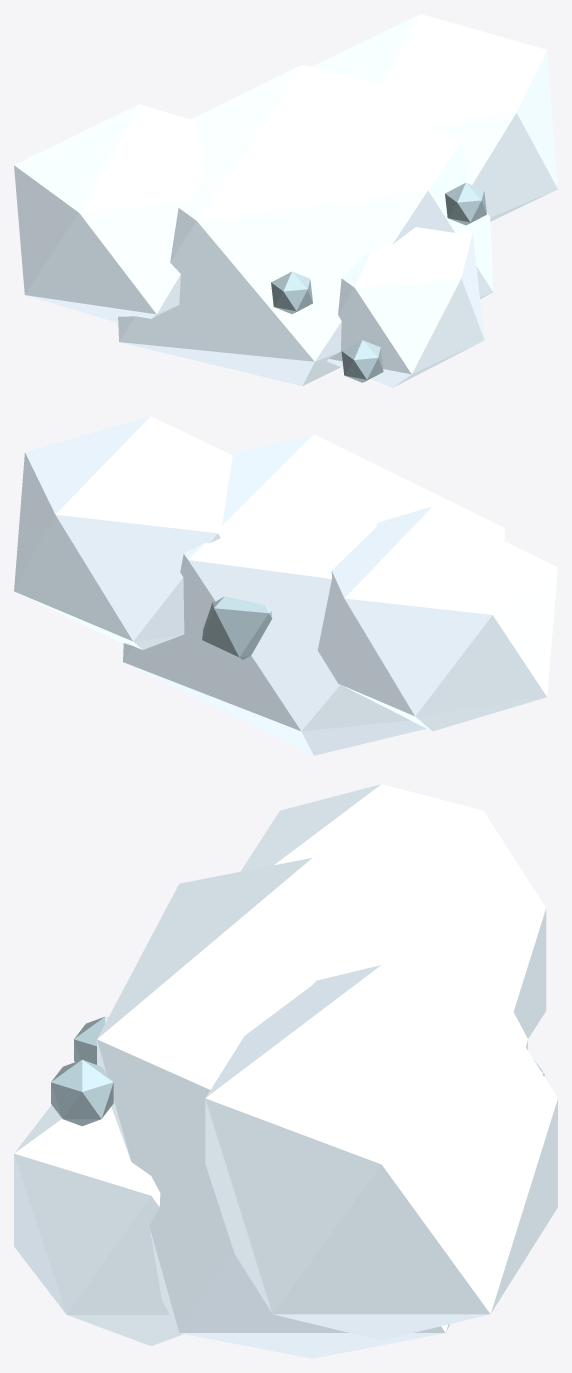
Rendered from CloudSprite.fbx.
The picture shows the model from 3 angles, top to bottom: view 1: azimuth 30°, elevation 25°; view 2: azimuth 150°, elevation 25°; view 3: azimuth 270°, elevation 25°; orthographic projection. The views are drawn at different scales.
Visible parts, largest first — view 1: CloudSprite_Body, CloudSprite_Body3, CloudSprite_Body2, CloudSprite_Body4, CloudSprite_Sparkle3, CloudSprite_Sparkle2, CloudSprite_Sparkle1; view 2: CloudSprite_Body, CloudSprite_Body3, CloudSprite_Body2, CloudSprite_Core; view 3: CloudSprite_Body2, CloudSprite_Body, CloudSprite_Body3, CloudSprite_Body4, CloudSprite_Sparkle2, CloudSprite_Sparkle1.
Boxes of the visible parts, left/top/right/bottom form: CloudSprite_Body: left=118, top=64, right=493, bottom=386; CloudSprite_Body3: left=14, top=104, right=205, bottom=322; CloudSprite_Body2: left=312, top=14, right=557, bottom=221; CloudSprite_Body4: left=327, top=227, right=484, bottom=387; CloudSprite_Sparkle3: left=341, top=340, right=383, bottom=382; CloudSprite_Sparkle2: left=445, top=183, right=486, bottom=225; CloudSprite_Sparkle1: left=271, top=271, right=312, bottom=313; CloudSprite_Body: left=123, top=434, right=504, bottom=755; CloudSprite_Body3: left=317, top=506, right=557, bottom=731; CloudSprite_Body2: left=14, top=416, right=232, bottom=649; CloudSprite_Core: left=202, top=596, right=272, bottom=659; CloudSprite_Body2: left=205, top=965, right=557, bottom=1340; CloudSprite_Body: left=97, top=858, right=527, bottom=1358; CloudSprite_Body3: left=241, top=784, right=546, bottom=1038; CloudSprite_Body4: left=14, top=1105, right=183, bottom=1346; CloudSprite_Sparkle2: left=51, top=1059, right=113, bottom=1126; CloudSprite_Sparkle1: left=74, top=1016, right=107, bottom=1064.
Bounding box in the file's own units: 204 × 120 × 118.
